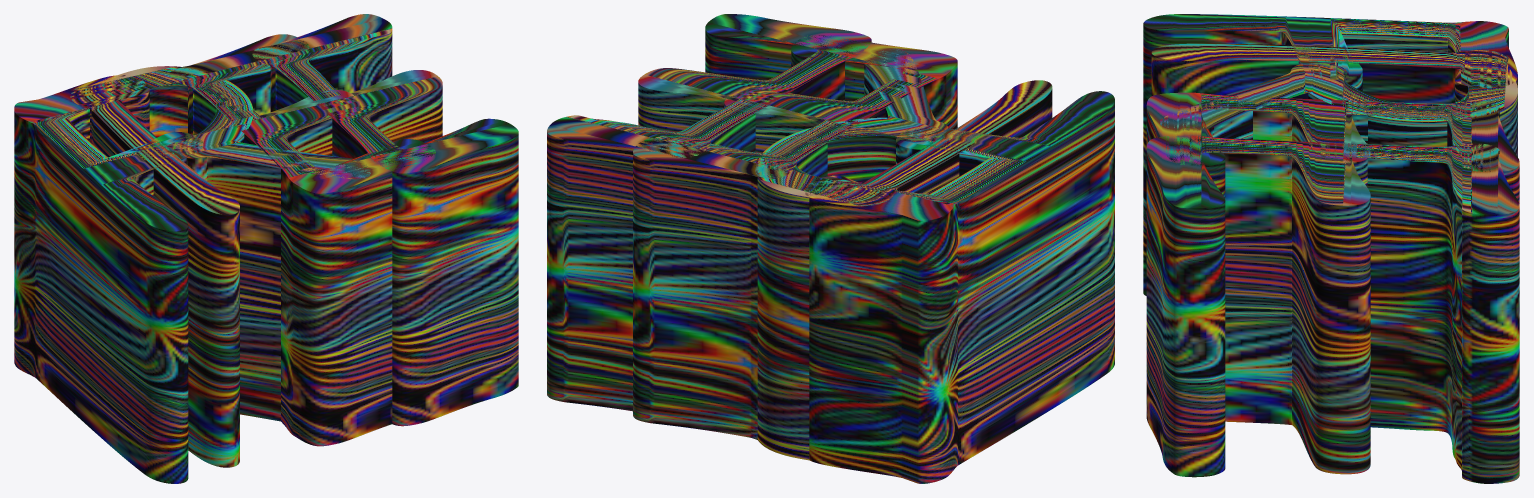
The model's file is free.glb.
The picture shows the model from 3 angles, left to right: view 1: azimuth 30°, elevation 25°; view 2: azimuth 150°, elevation 25°; view 3: azimuth 270°, elevation 25°; orthographic projection. The views are drawn at different scales.
Parts seen in each view (by area): view 1: Text; view 2: Text; view 3: Text.
Part boxes in pixels (bbox=[...]): Text: bbox=[14, 14, 518, 483]; Text: bbox=[547, 14, 1114, 483]; Text: bbox=[1143, 14, 1519, 483].
Size of the model in its own units: 1.46 by 0.9116 by 1.16.
Materials: 1 (1 with a texture image).
